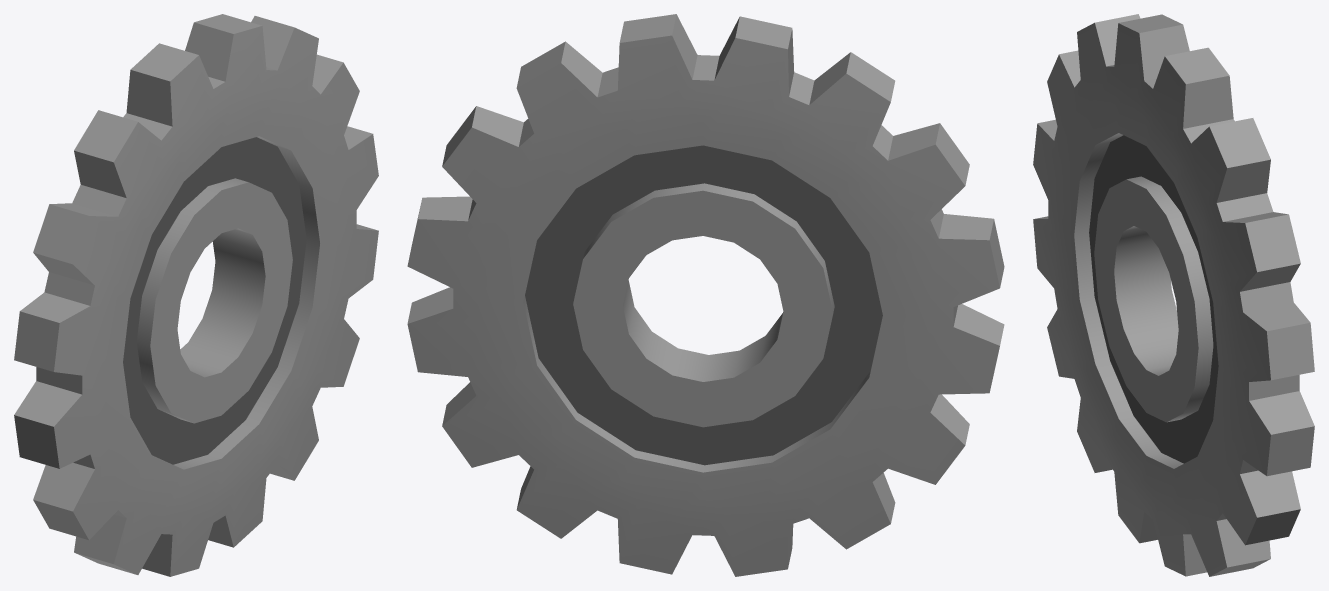
Rendered from gear.glb.
3 views of the same model, side by side, from view 1: azimuth 30°, elevation 25°; view 2: azimuth 150°, elevation 25°; view 3: azimuth 270°, elevation 25° (orthographic). The views are drawn at different scales.
Parts seen in each view (by area): view 1: Circle.2590; view 2: Circle.2590; view 3: Circle.2590.
Boxes of the visible parts, box(x1,y1,x2,y2) form: Circle.2590: box(14, 14, 378, 576); Circle.2590: box(407, 14, 1004, 576); Circle.2590: box(1033, 14, 1314, 576).
Size of the model in its own units: 1.87 by 1.98 by 0.9913.
Materials: 1 (1 with a texture image).
